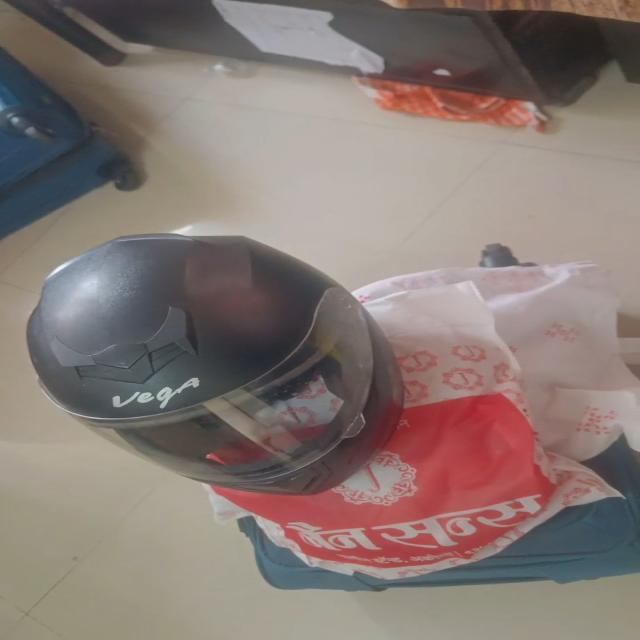Helmet: (32, 236, 410, 498)
